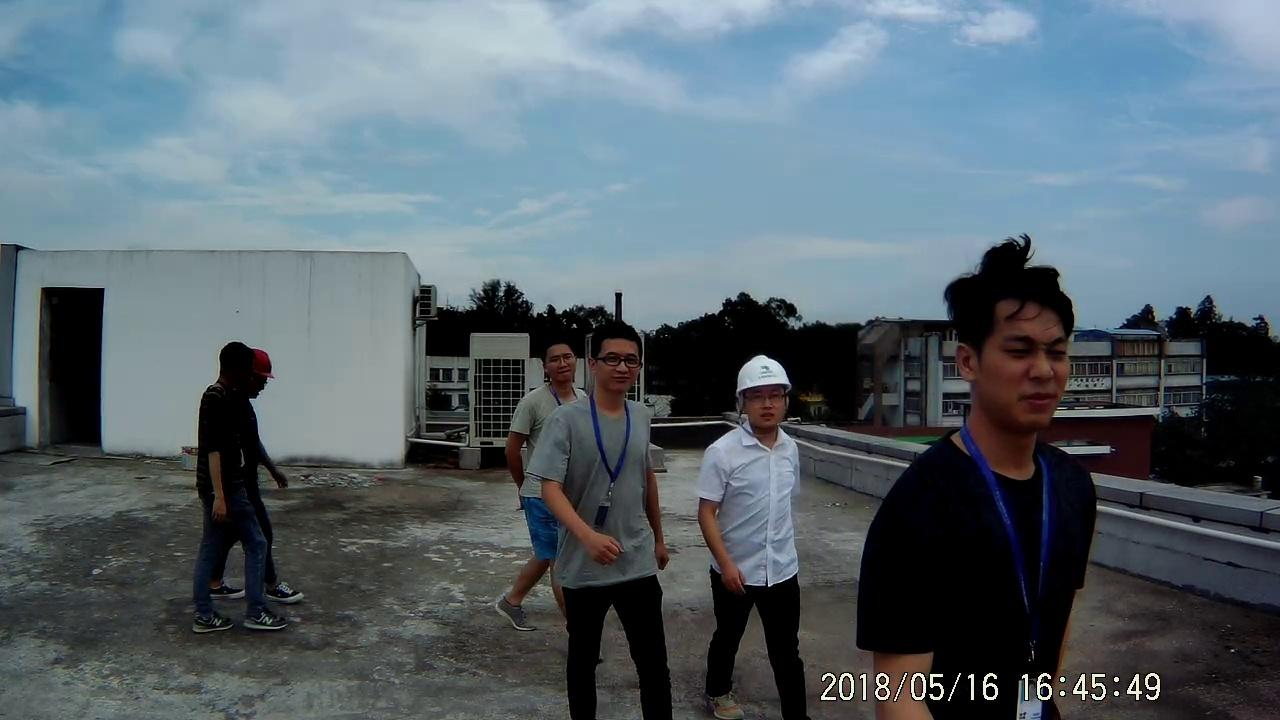Helmet: (733, 354, 790, 429)
NoHelmet: (586, 320, 646, 392)
